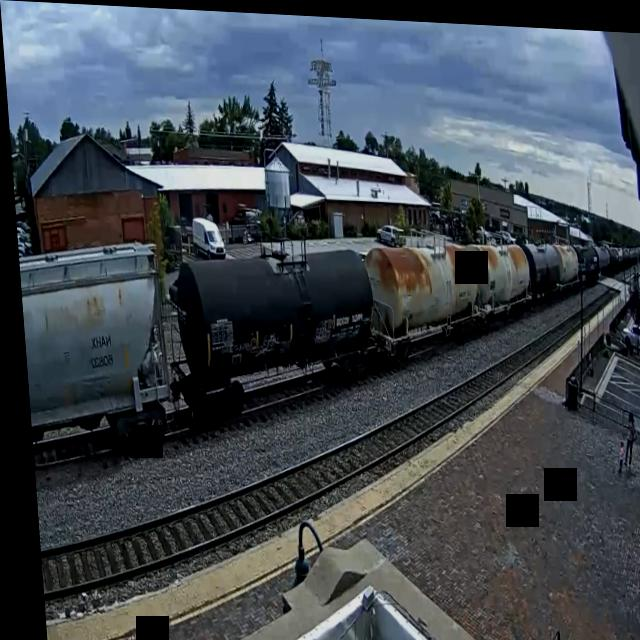hopper: (13, 224, 175, 475)
tank: (160, 226, 385, 436), (358, 228, 484, 371), (463, 228, 533, 322)
